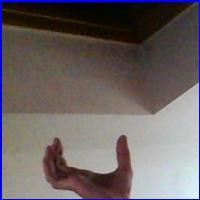space: (36, 132, 153, 197)
